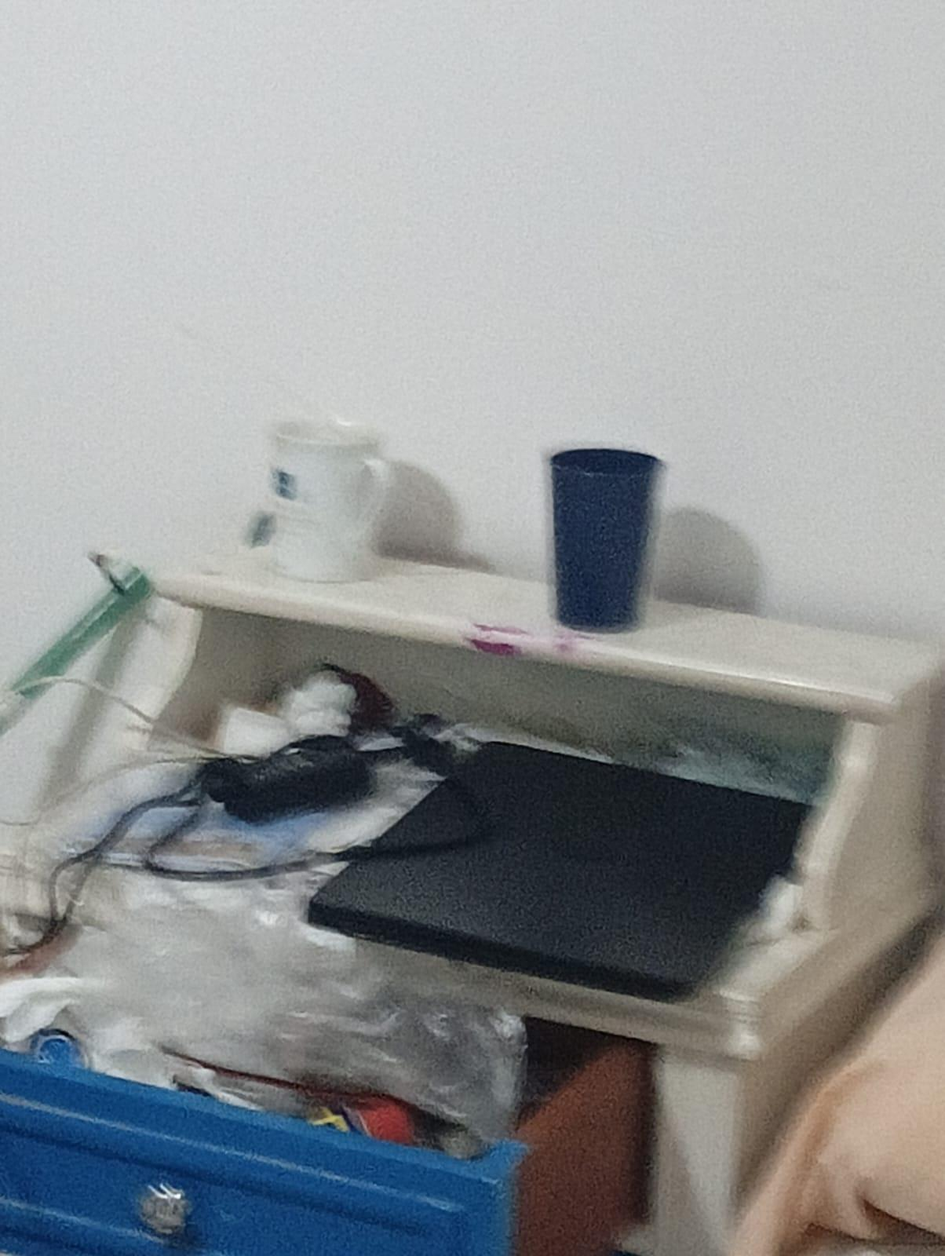cup: (550, 449, 661, 630), (270, 421, 388, 581)
